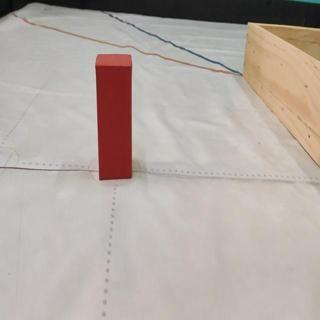redbox: (95, 54, 132, 180)
